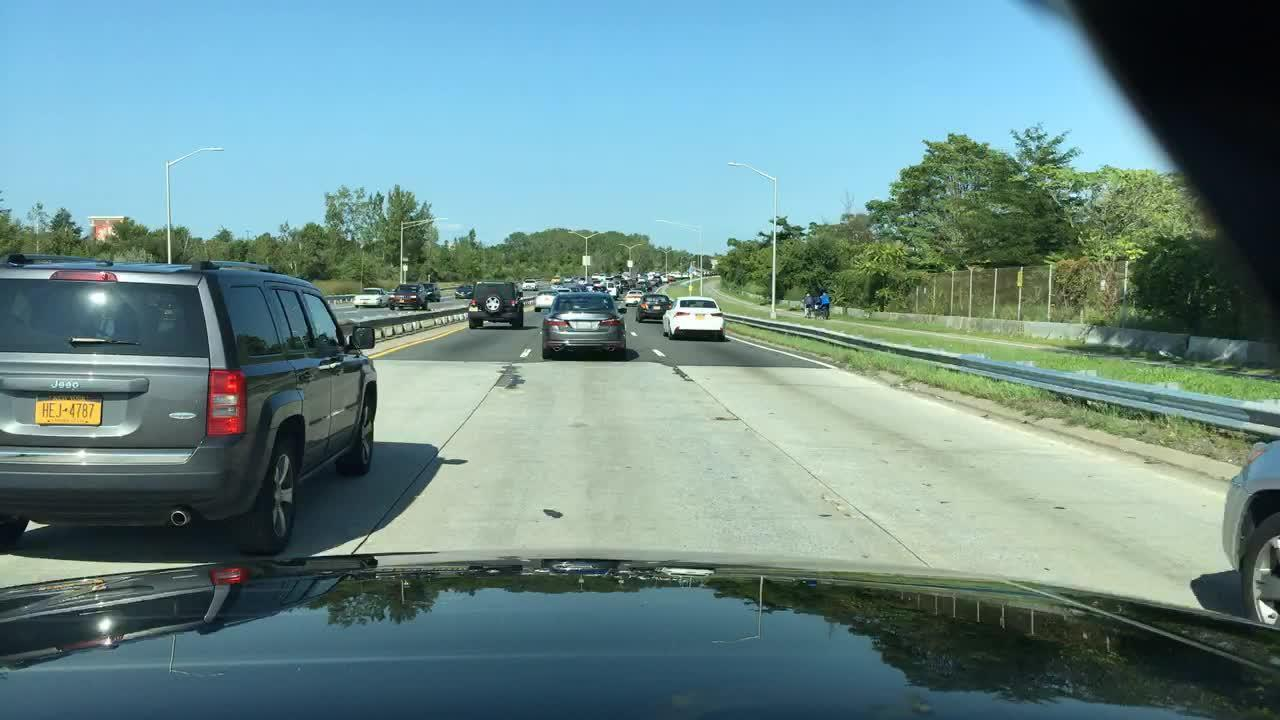jeep: (42, 377, 88, 396)
